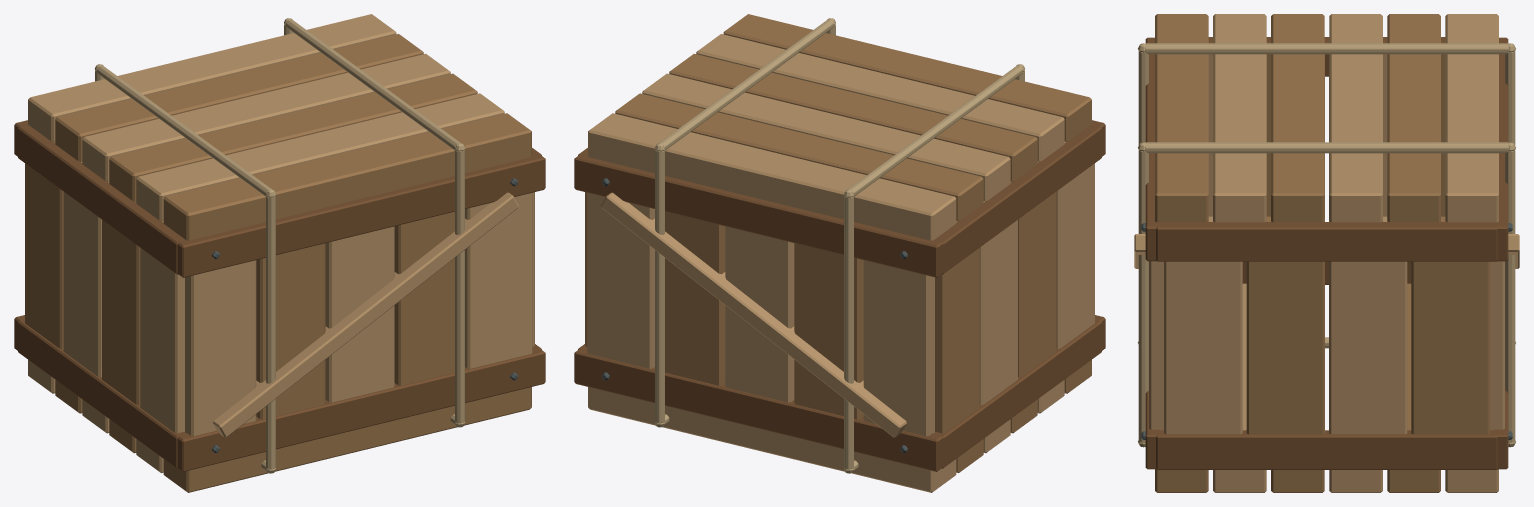
Rendered from SM_AskirSupplyCrate.glb.
3 renders of one model, left to right at view 1: azimuth 30°, elevation 25°; view 2: azimuth 150°, elevation 25°; view 3: azimuth 270°, elevation 25°, orthographic. The views are drawn at different scales.
Parts seen in each view (by area): view 1: SM_AskirSupplyCrate; view 2: SM_AskirSupplyCrate; view 3: SM_AskirSupplyCrate.
Boxes of the visible parts, x1,y1,x2,y2 form: SM_AskirSupplyCrate: (14,14,545,492); SM_AskirSupplyCrate: (574,14,1105,492); SM_AskirSupplyCrate: (1134,14,1519,492).
Size of the model in its own units: 1.01 by 0.7605 by 0.8561.
